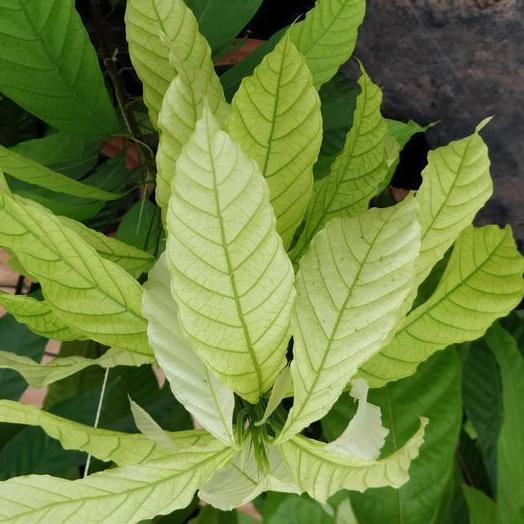Healthy Leaf: (0, 0, 119, 136)
Iron: (167, 106, 294, 402), (279, 201, 419, 441), (360, 225, 523, 386), (0, 194, 151, 354), (0, 441, 231, 523)
